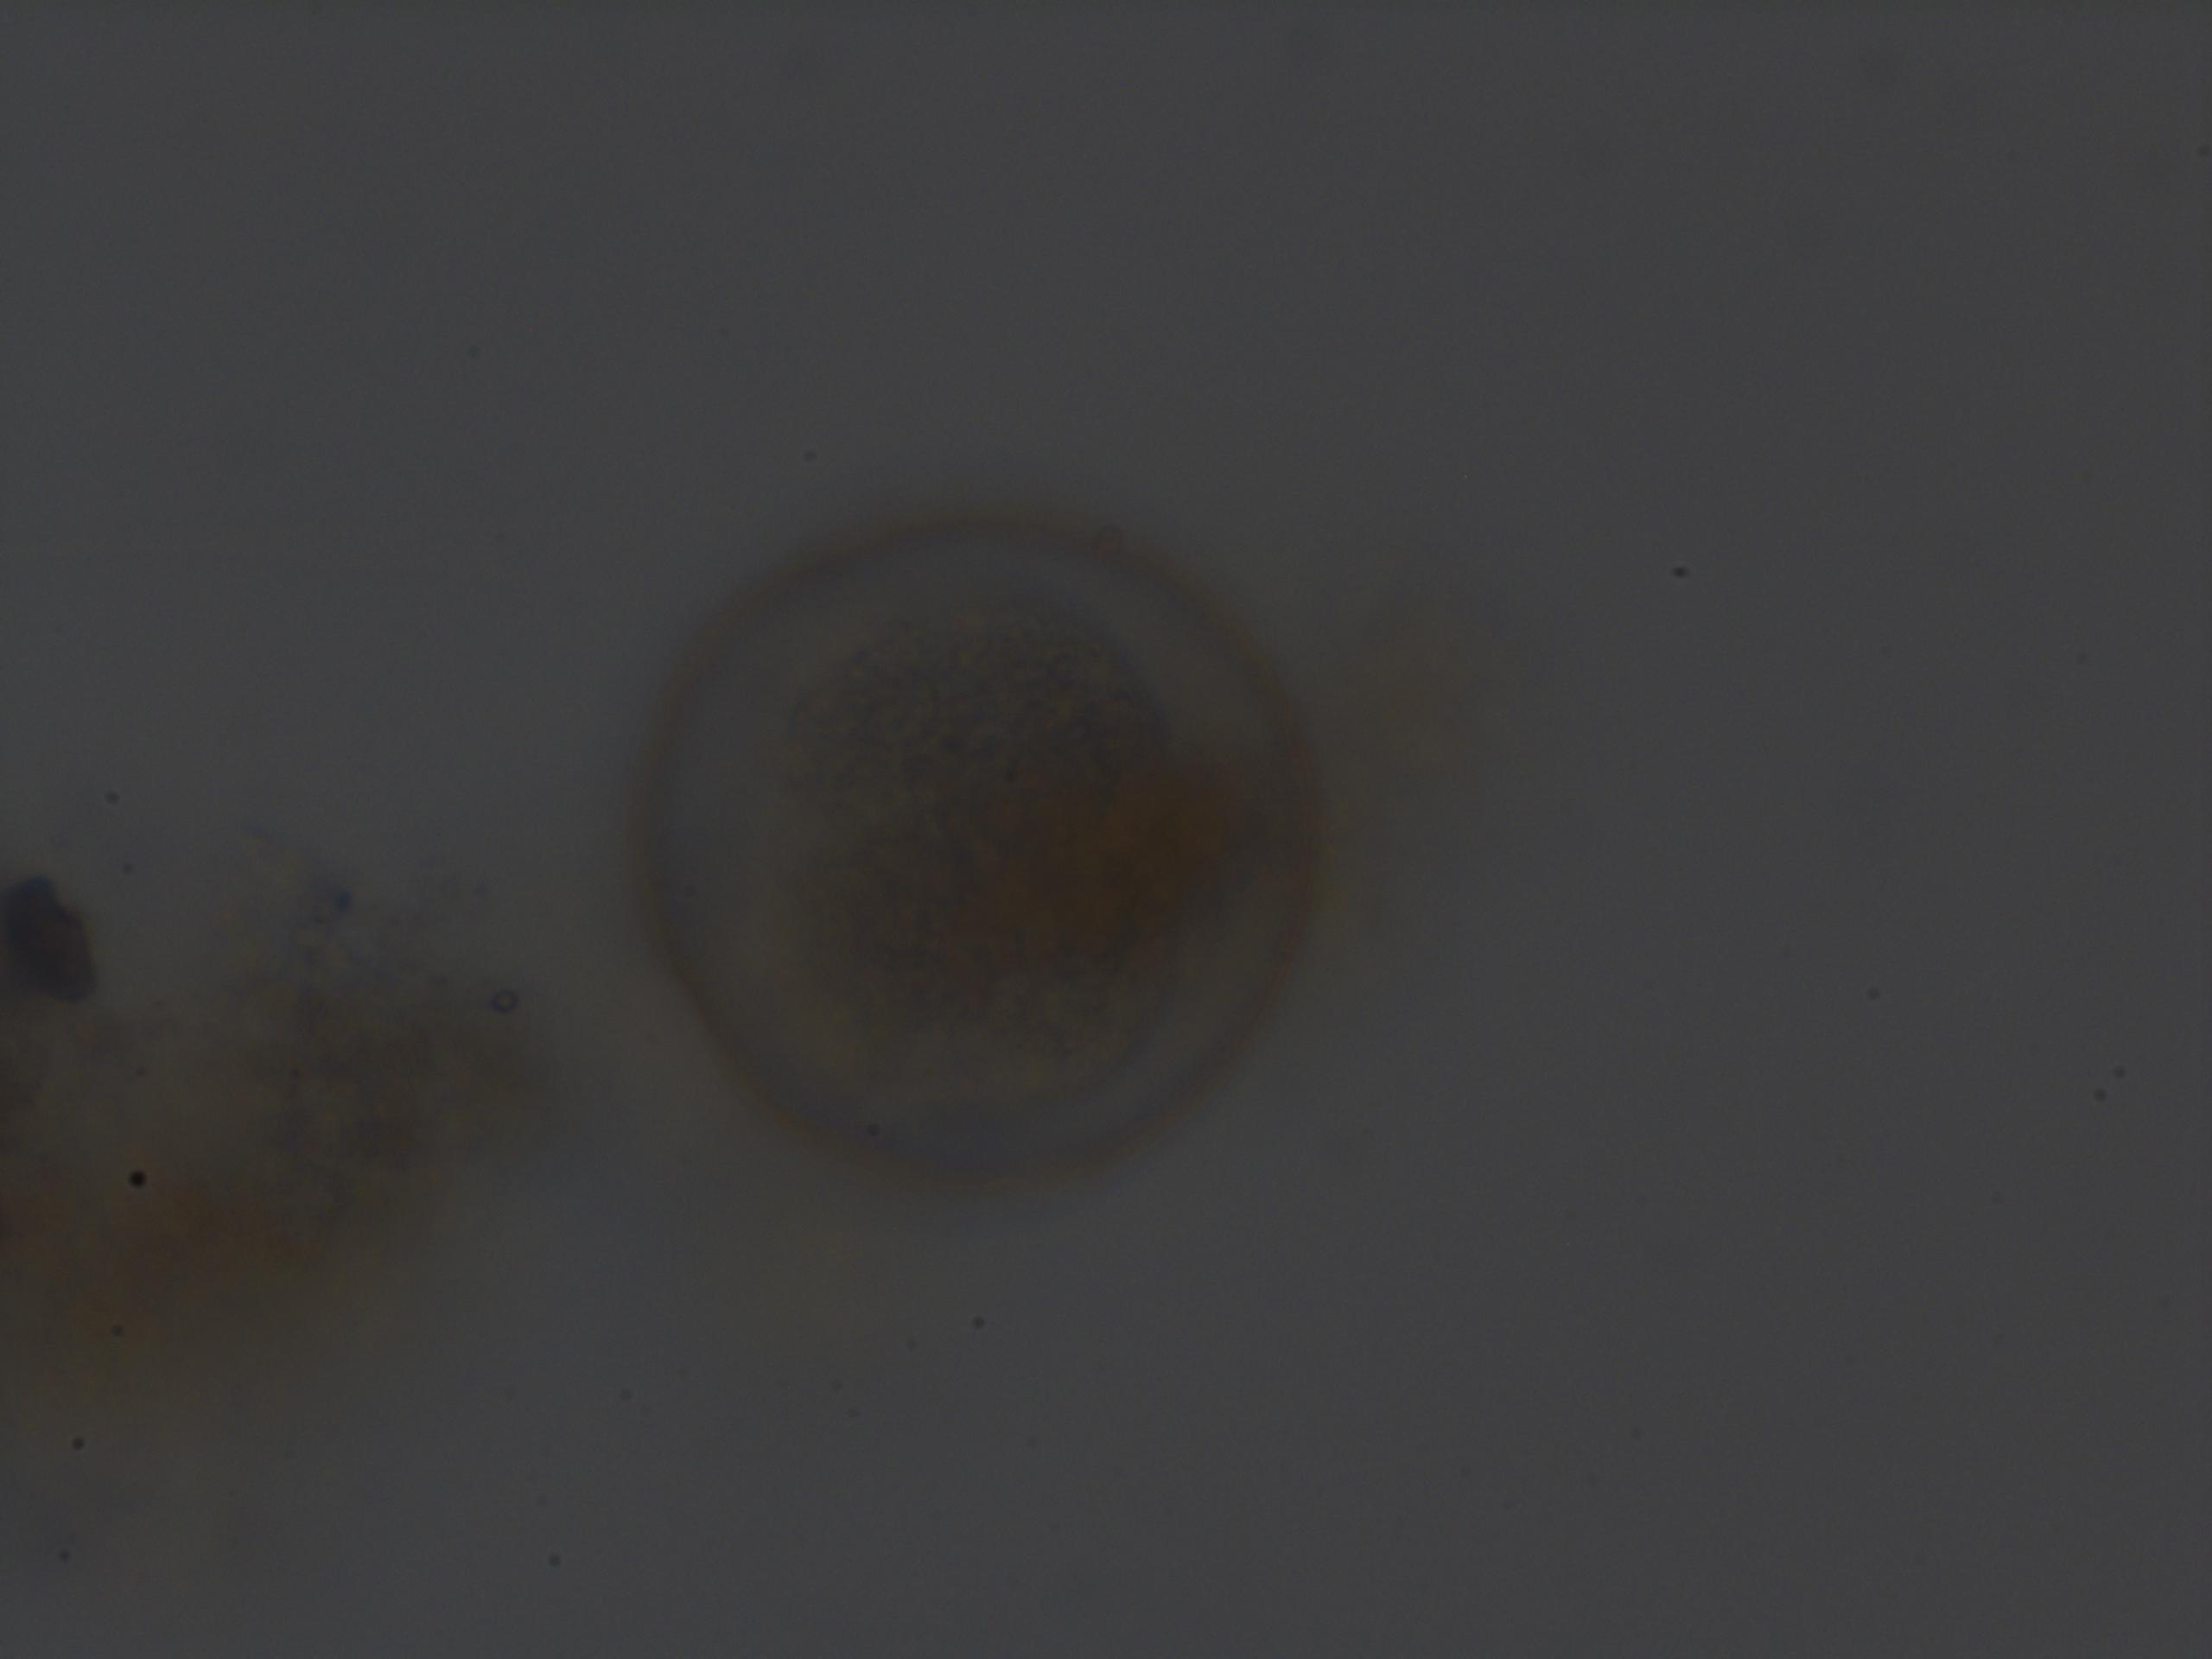protozoa: (627, 490, 1338, 1218)
